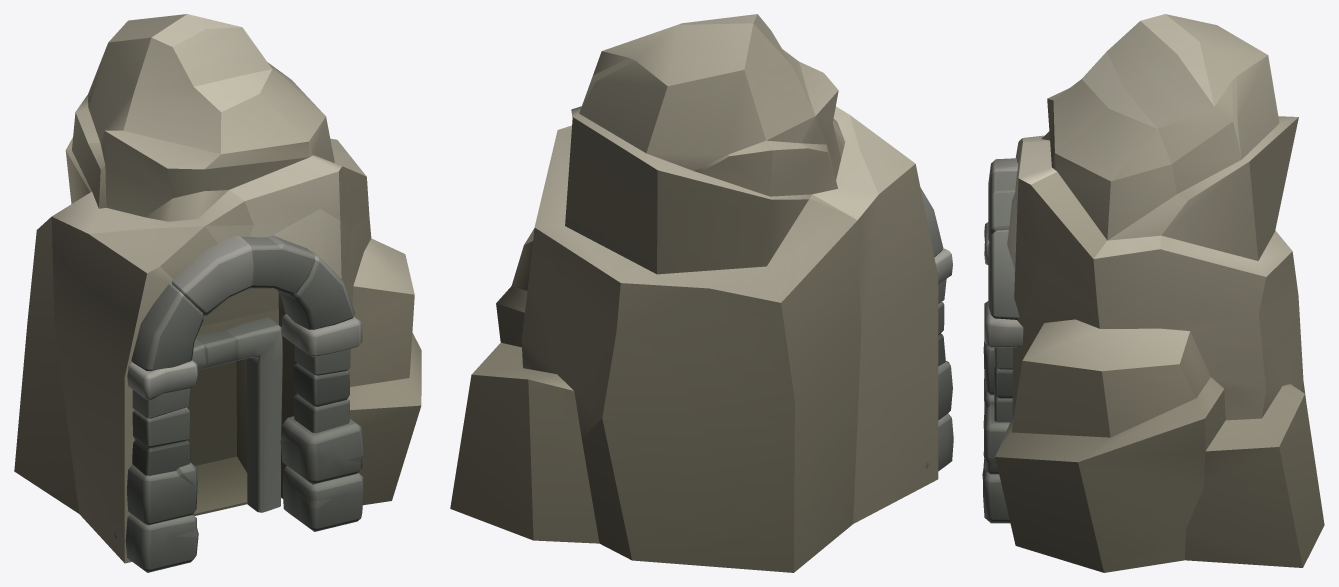
Rendered from mine_enterance.fbx.
3 views of the same model, side by side, from view 1: azimuth 30°, elevation 25°; view 2: azimuth 150°, elevation 25°; view 3: azimuth 270°, elevation 25° (orthographic). The views are drawn at different scales.
Visible parts, largest first — view 1: mine_enterance; view 2: mine_enterance; view 3: mine_enterance.
Part boxes in pixels (x1,y1,x2,y2): mine_enterance: (14, 14, 421, 572); mine_enterance: (450, 14, 953, 572); mine_enterance: (982, 14, 1324, 572).
Bounding box in the file's own units: 724 × 957 × 658.
